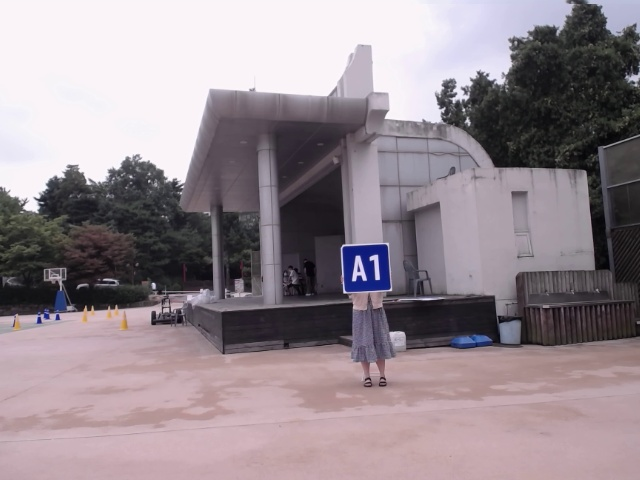delivery_a1: (342, 243, 391, 293)
